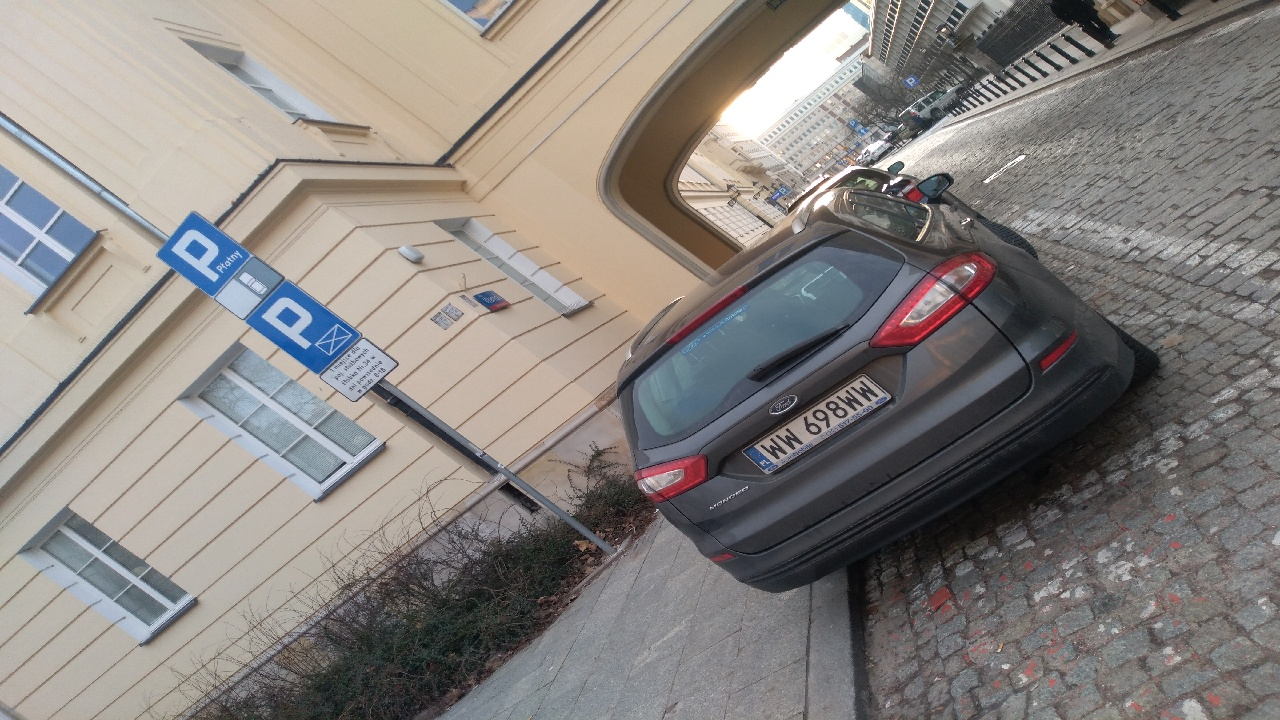D18: (241, 284, 353, 368), (148, 207, 244, 288)
